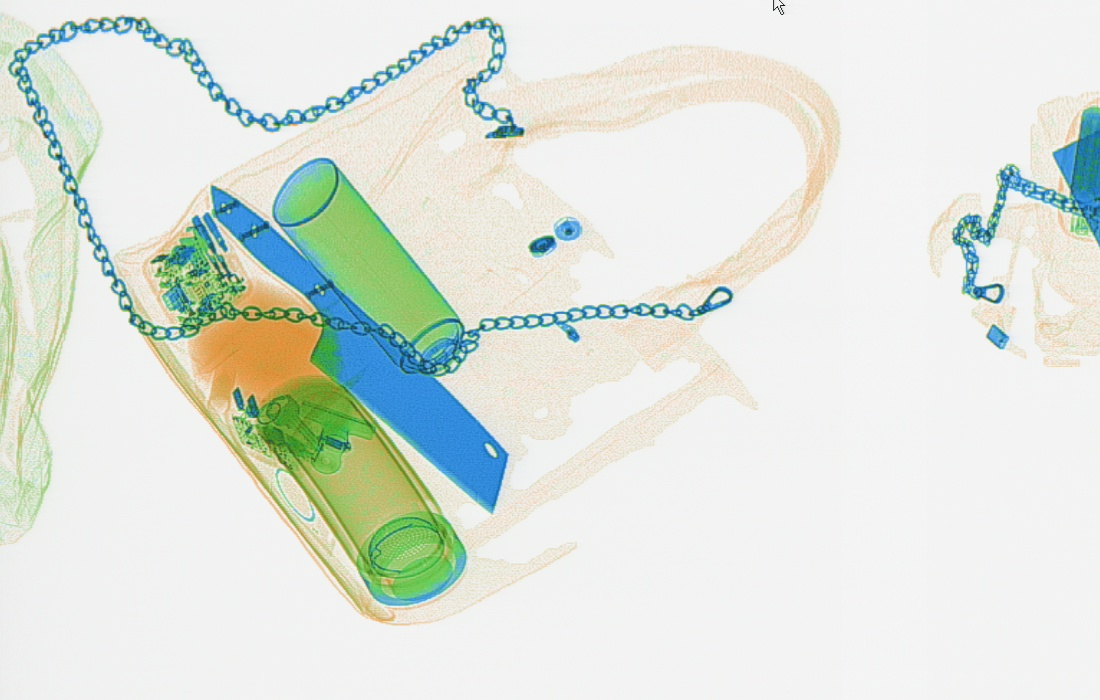knife: (207, 184, 511, 514)
pressure: (271, 155, 465, 376)
